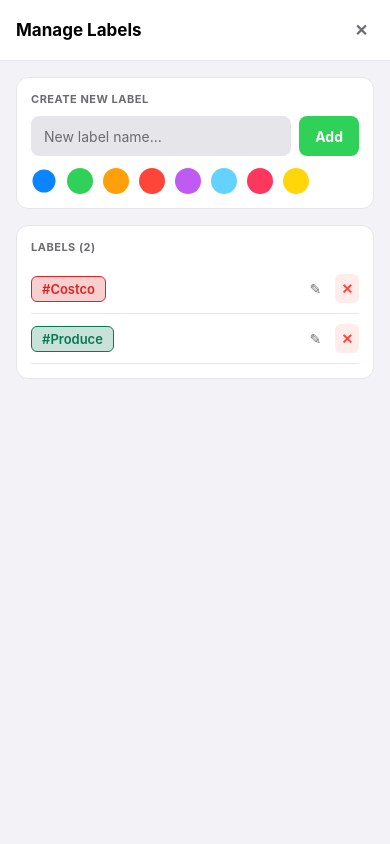
LabelManagementModal › deletes a global label and removes it from tasks
// Delete Produce label (id: 2)
Click the element with test id "delete-label-2" at coordinates (347, 338), box [335,324,359,353]
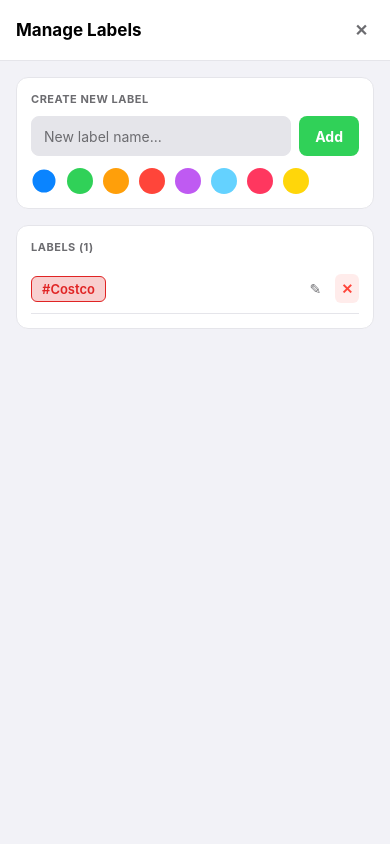
Now the text "#Produce" is gone
